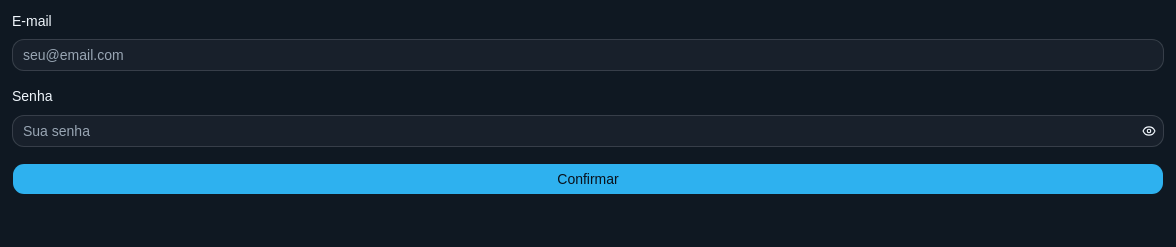
Test: SignInForm › deve exibir mensagem genérica quando as credenciais são inválidas
Type "maria.oliveira@example.com" into the field labelled "E-mail" at (588, 55), box [12,39,1164,71]
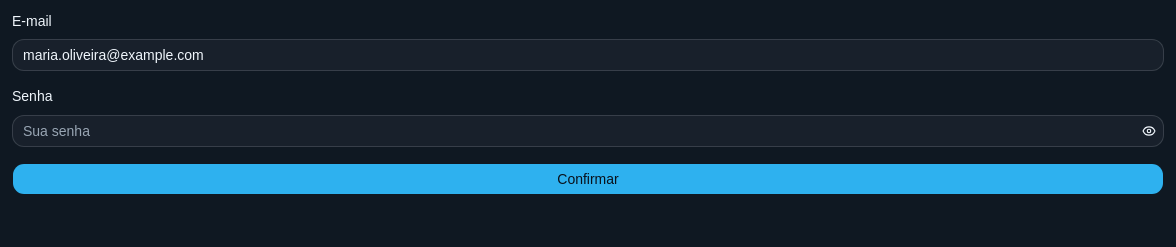
Type "senha-errada" into the password field labelled "Senha" at (574, 130), box [13,114,1135,146]
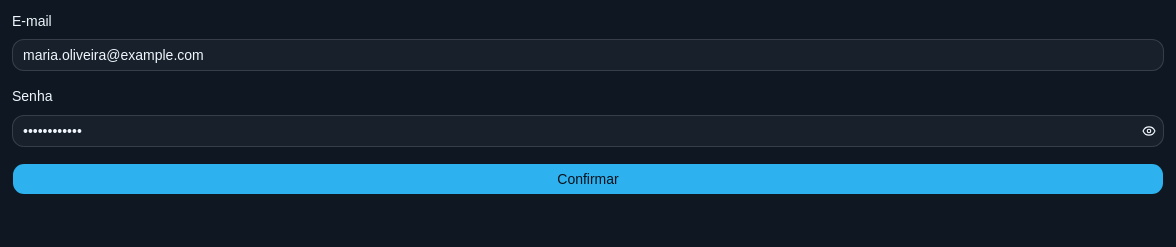
Click the button "Confirmar" at (588, 178), box [12,162,1164,194]
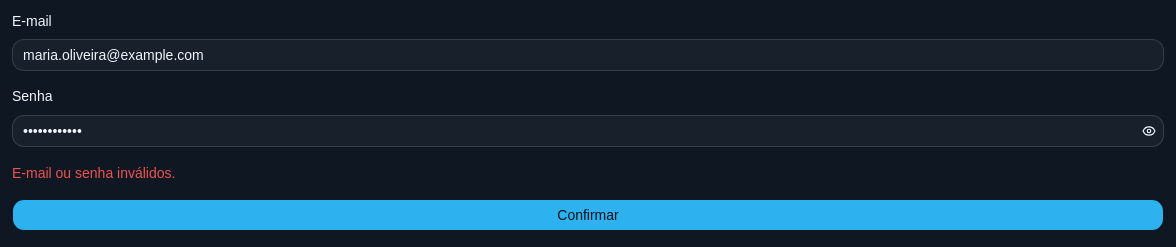
Now the message reads "E-mail ou senha inválidos.", box [12,164,175,180]
